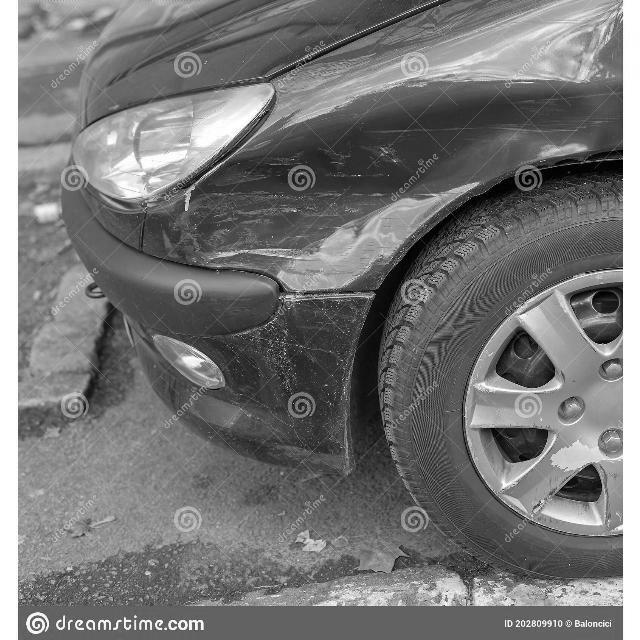fender-dent: (212, 37, 623, 296)
